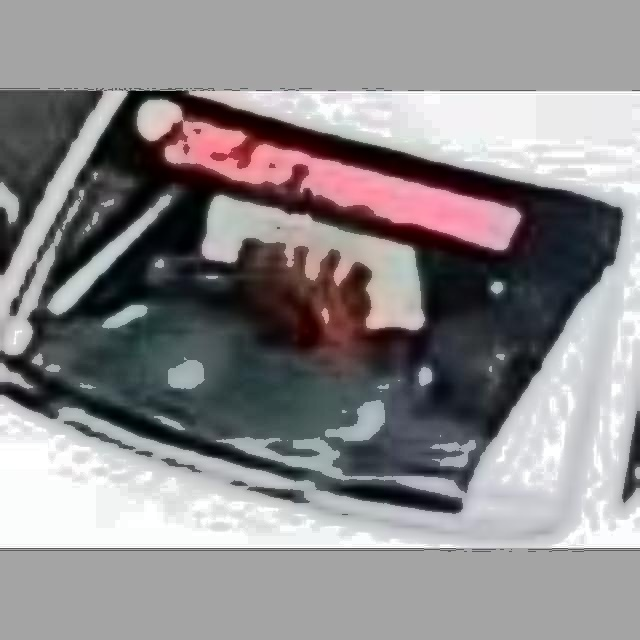tidak-pakai: (183, 158, 402, 384)
